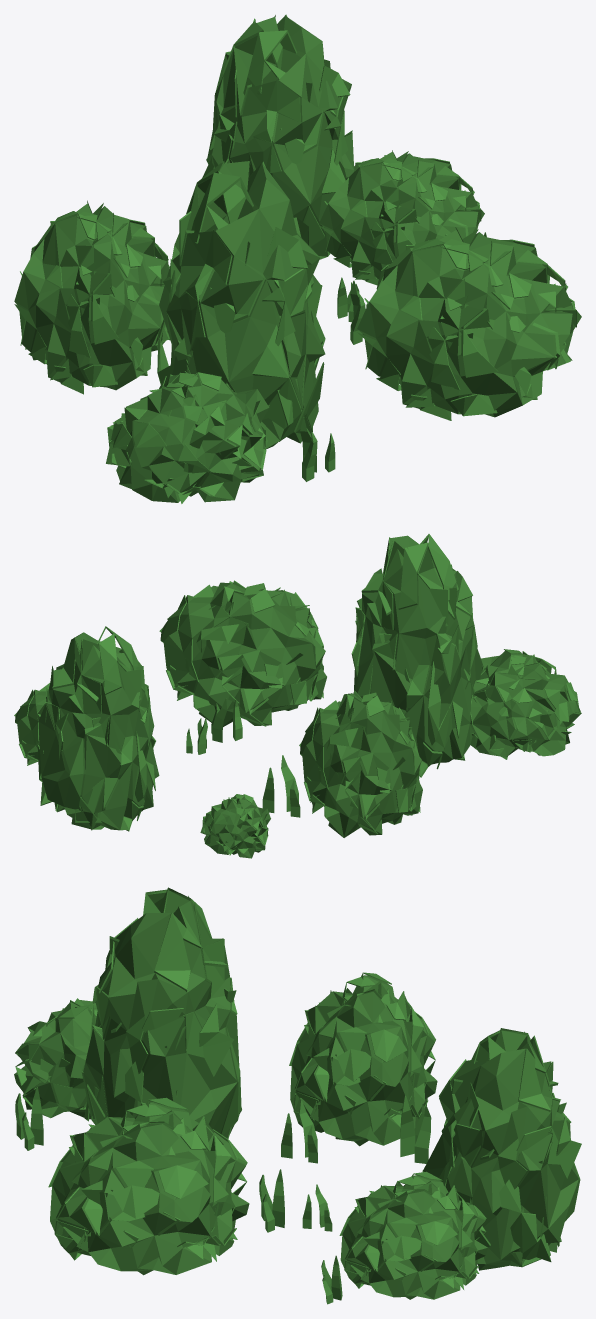
The model's file is Bush group 4.fbx.
3 views of the same model, one above another, from view 1: azimuth 30°, elevation 25°; view 2: azimuth 150°, elevation 25°; view 3: azimuth 270°, elevation 25° (orthographic). The views are drawn at different scales.
Visible parts, largest first — view 1: Bush group 4; view 2: Bush group 4; view 3: Bush group 4.
Boxes of the visible parts, x1,y1,x2,y2 form: Bush group 4: (14, 14, 581, 503); Bush group 4: (14, 534, 581, 858); Bush group 4: (14, 887, 581, 1304).
Bounding box in the file's own units: 8.32 × 4.12 × 8.11.
